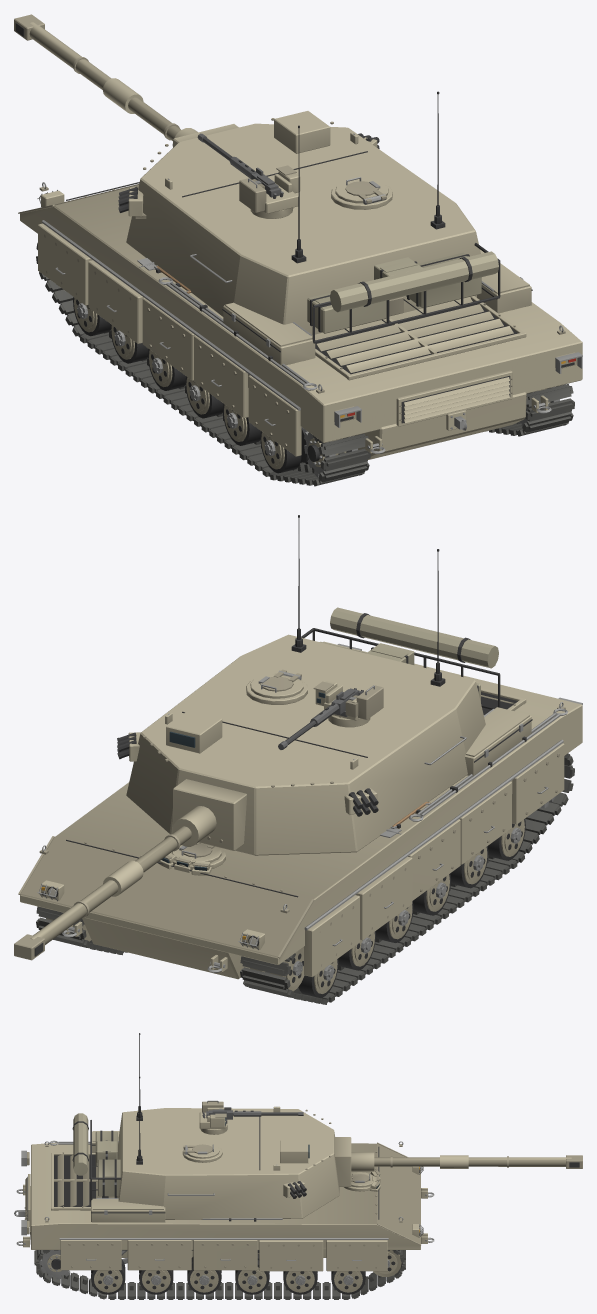
File: usa_lt_m10.glb
3 views of the same model, one above another, from view 1: azimuth 30°, elevation 25°; view 2: azimuth 150°, elevation 25°; view 3: azimuth 270°, elevation 25° (orthographic). The views are drawn at different scales.
Parts seen in each view (by area): view 1: body, turret, barrel; view 2: body, turret, barrel; view 3: body, turret, barrel.
Boxes of the visible parts, x1,y1,x2,y2 form: body: (18, 182, 582, 486); turret: (118, 91, 500, 343); barrel: (14, 14, 197, 145); body: (18, 641, 582, 1004); turret: (117, 515, 500, 855); barrel: (14, 806, 216, 960); body: (14, 1131, 434, 1299); turret: (72, 1033, 352, 1219); barrel: (351, 1152, 582, 1171).
Bounding box in the file's own units: 3.63 × 3.96 × 9.95.
